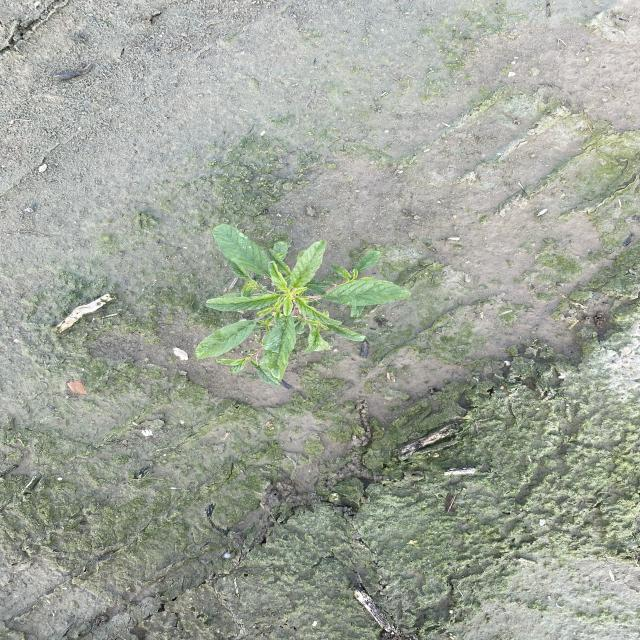Waterhemp: (190, 222, 414, 389)
